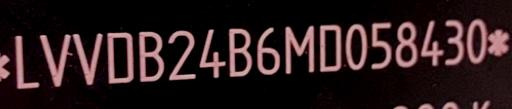letter: (70, 29, 104, 88), (38, 32, 72, 89), (282, 24, 318, 75), (104, 30, 136, 85), (12, 33, 42, 90), (166, 28, 198, 81), (136, 30, 168, 83), (254, 23, 284, 76), (226, 26, 254, 79), (198, 27, 226, 80), (419, 17, 445, 70), (392, 19, 420, 68), (368, 20, 394, 71), (318, 23, 344, 74), (441, 16, 465, 69), (465, 16, 489, 67), (344, 22, 368, 71)
